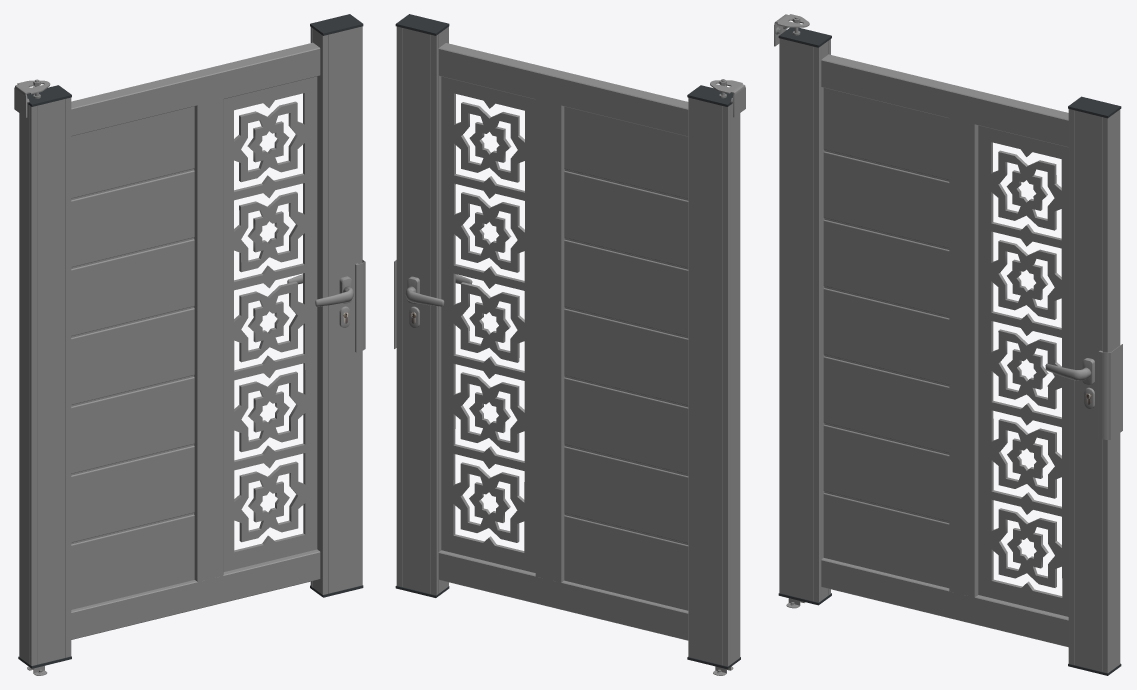
3 renders of one model, left to right at view 1: azimuth 30°, elevation 25°; view 2: azimuth 150°, elevation 25°; view 3: azimuth 330°, elevation 25°, orthographic.
Visible parts, largest first — view 1: rosace, Shape107412643, Shape107412644, Shape107412004, Shape107412011, Shape107412665, Shape107412666, Shape107412667, Shape107412663, Shape107412664, Shape107412000, Shape107412668 (+5 smaller); view 2: rosace, Shape107412643, Shape107412644, Shape107412004, Shape107412011, Shape107412664, Shape107412663, Shape107412665, Shape107412666, Shape107412667, Shape107412000, Shape107412668 (+4 smaller); view 3: rosace, Shape107412644, Shape107412643, Shape107412004, Shape107412663, Shape107412664, Shape107412666, Shape107412667, Shape107412665, Shape107412011, Shape107412000, Shape107412668 (+4 smaller).
Boxes of the visible parts, x1=… form: rosace: x1=223, y1=76, x2=317, y2=571; Shape107412643: x1=19, y1=97, x2=71, y2=665; Shape107412644: x1=310, y1=26, x2=362, y2=594; Shape107412004: x1=194, y1=99, x2=223, y2=581; Shape107412011: x1=71, y1=42, x2=320, y2=136; Shape107412665: x1=71, y1=306, x2=194, y2=404; Shape107412666: x1=71, y1=237, x2=194, y2=336; Shape107412667: x1=71, y1=169, x2=194, y2=267; Shape107412663: x1=71, y1=444, x2=194, y2=542; Shape107412664: x1=71, y1=375, x2=194, y2=473; Shape107412000: x1=71, y1=513, x2=194, y2=609; Shape107412668: x1=71, y1=106, x2=194, y2=198; rosace: x1=441, y1=76, x2=535, y2=572; Shape107412643: x1=688, y1=97, x2=740, y2=666; Shape107412644: x1=396, y1=26, x2=448, y2=595; Shape107412004: x1=535, y1=96, x2=564, y2=582; Shape107412011: x1=438, y1=43, x2=688, y2=136; Shape107412664: x1=564, y1=376, x2=688, y2=474; Shape107412663: x1=564, y1=444, x2=688, y2=543; Shape107412665: x1=564, y1=307, x2=688, y2=405; Shape107412666: x1=564, y1=238, x2=688, y2=336; Shape107412667: x1=564, y1=169, x2=688, y2=267; Shape107412000: x1=564, y1=513, x2=688, y2=610; Shape107412668: x1=564, y1=106, x2=688, y2=198; rosace: x1=978, y1=125, x2=1068, y2=616; Shape107412644: x1=1068, y1=109, x2=1120, y2=672; Shape107412643: x1=779, y1=38, x2=830, y2=602; Shape107412004: x1=949, y1=118, x2=978, y2=597; Shape107412663: x1=823, y1=423, x2=949, y2=521; Shape107412664: x1=823, y1=354, x2=949, y2=453; Shape107412666: x1=823, y1=218, x2=949, y2=316; Shape107412667: x1=823, y1=149, x2=949, y2=248; Shape107412665: x1=823, y1=286, x2=949, y2=384; Shape107412011: x1=821, y1=54, x2=1068, y2=147; Shape107412000: x1=823, y1=491, x2=949, y2=588; Shape107412668: x1=823, y1=88, x2=949, y2=179.
Bounding box in the file's own units: 1014 × 1688 × 171.
Materials: 8 (4 with a texture image).
